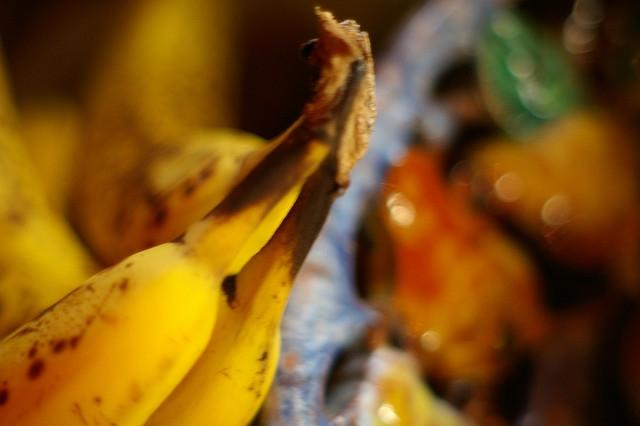banana: (0, 52, 338, 426), (0, 69, 353, 426), (72, 0, 271, 269), (15, 91, 84, 222)
